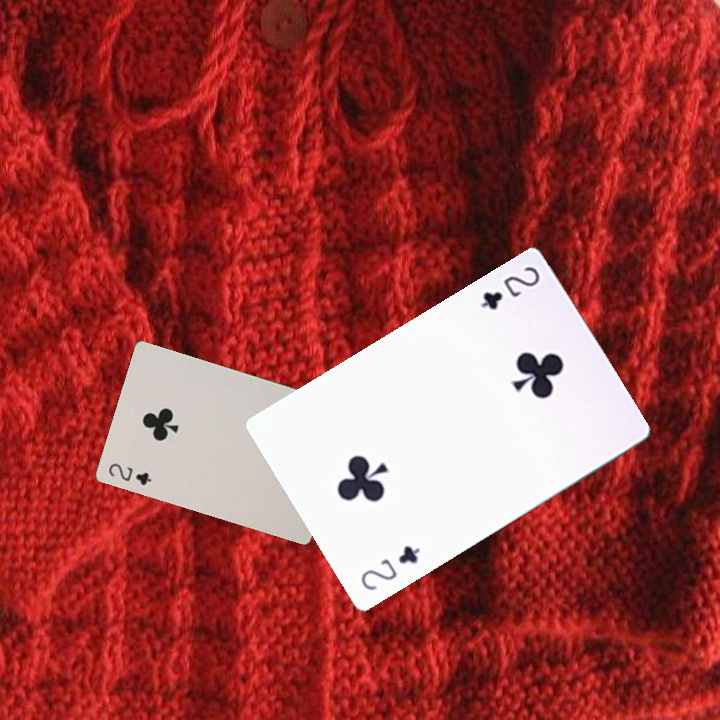2c: (356, 541, 423, 593), (477, 262, 543, 313), (104, 459, 154, 488)
